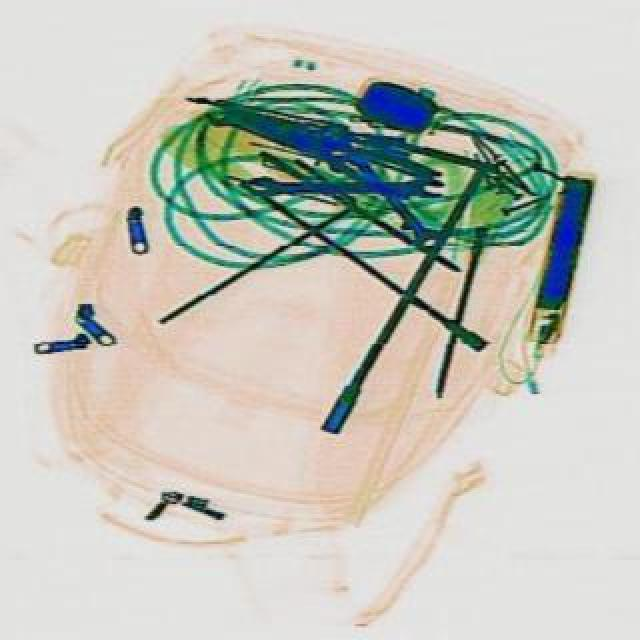scissors: (316, 112, 444, 256), (238, 174, 442, 196)
